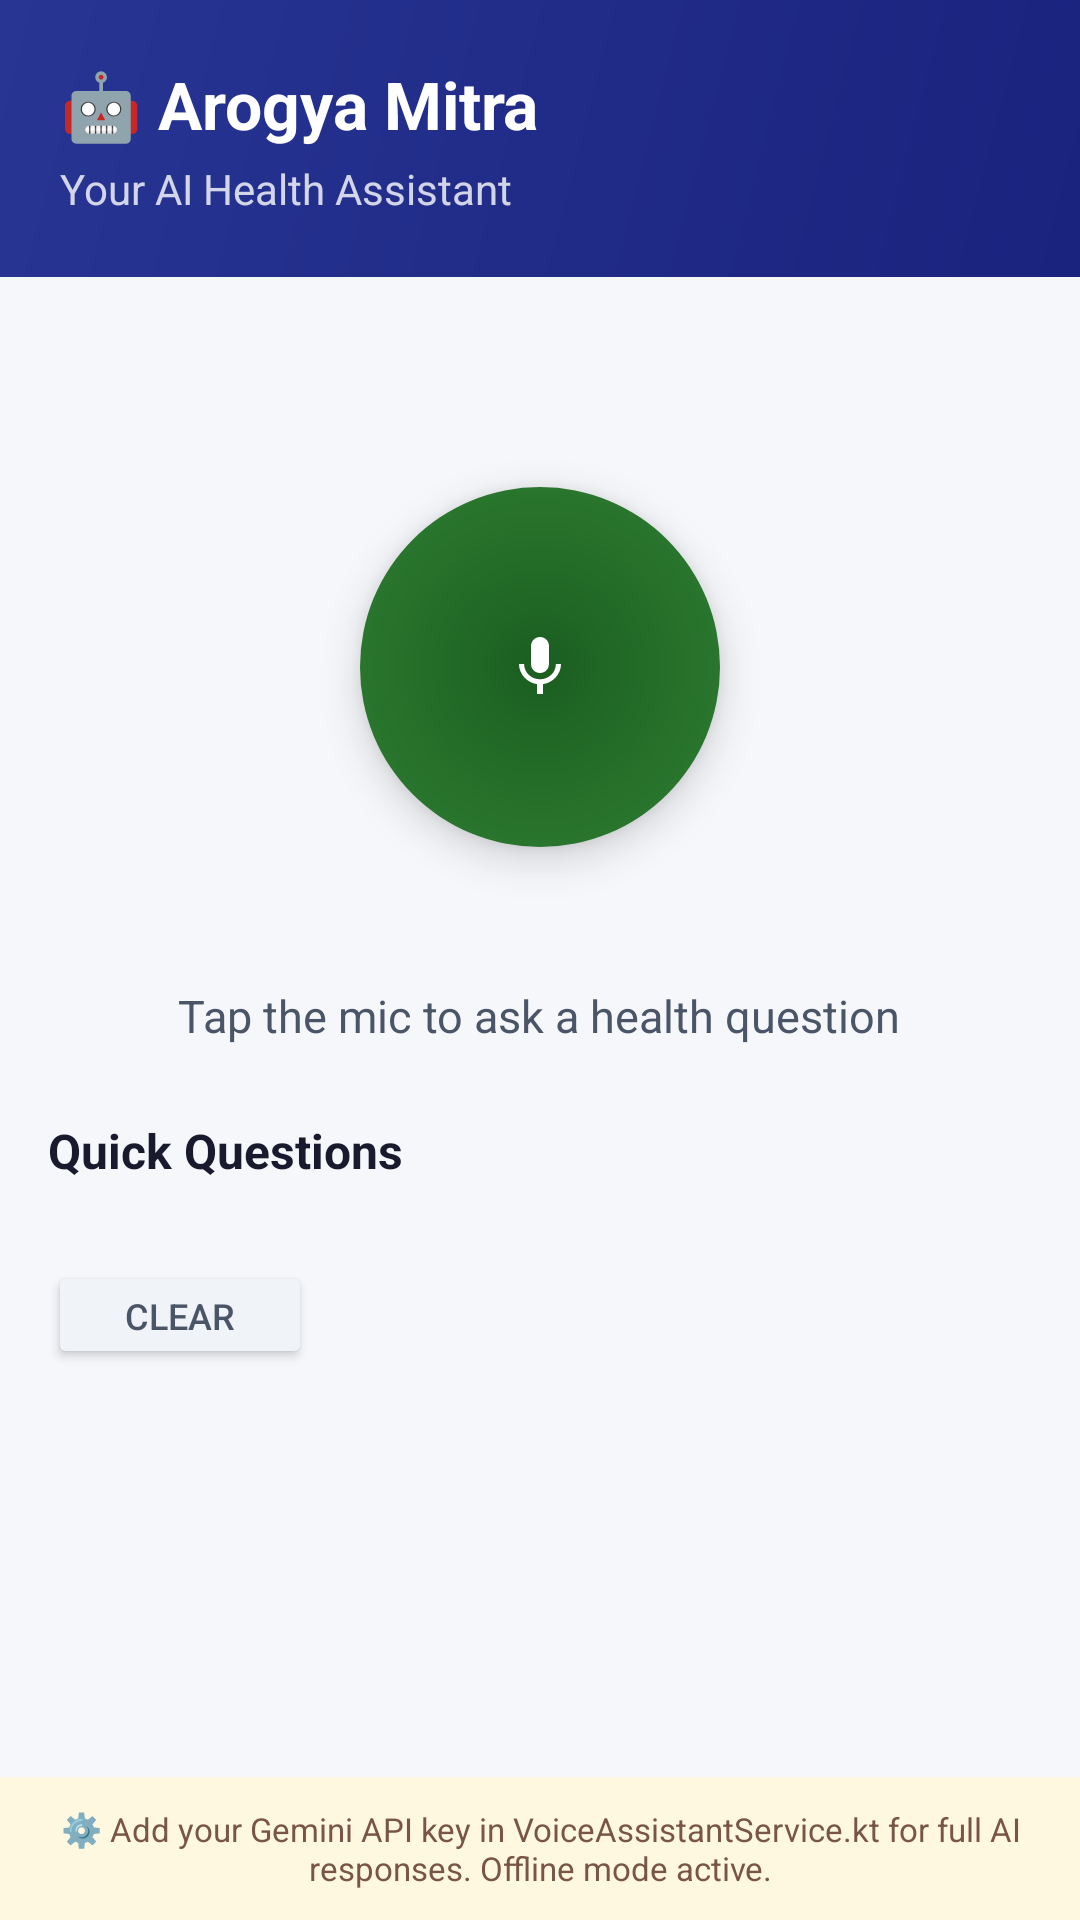

Named icons in this screenshot (1080x1920) and their bounding boxes, (x1, y1, x2, y2):
Start voice input: (360, 487, 720, 847)
